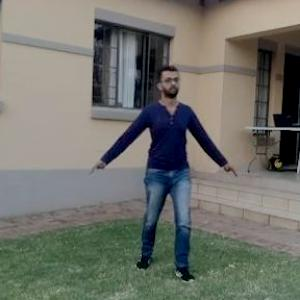land: (96, 72, 228, 266)
